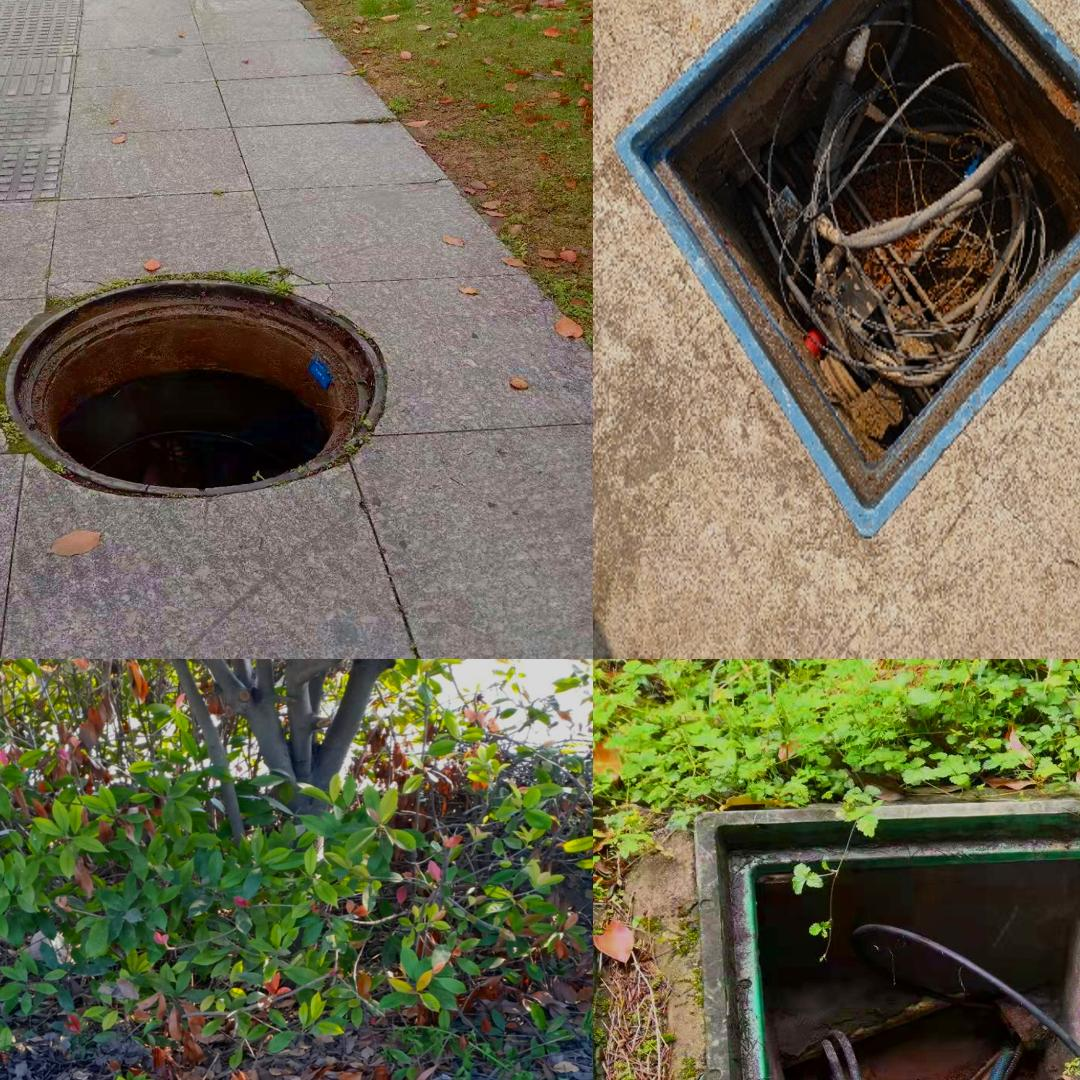lose: (612, 0, 1080, 538), (694, 797, 1080, 1080), (2, 276, 384, 499)
